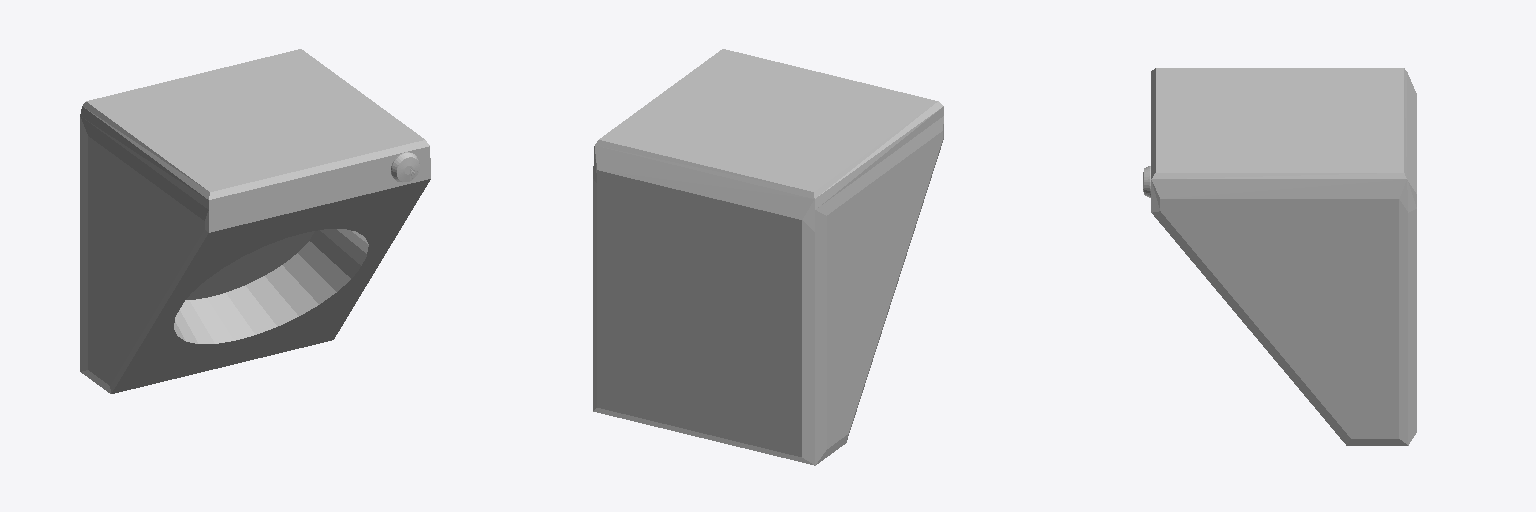
The model's file is Intercom.obj.
3 views of the same model, side by side, from view 1: azimuth 30°, elevation 25°; view 2: azimuth 150°, elevation 25°; view 3: azimuth 270°, elevation 25° (orthographic).
Visible parts, largest first — view 1: Cube, Cylinder; view 2: Cube; view 3: Cube.
Part boxes in pixels (left/top/right/bottom): Cube: left=80, top=49, right=430, bottom=393; Cylinder: left=391, top=152, right=419, bottom=182; Cube: left=593, top=49, right=943, bottom=465; Cube: left=1151, top=68, right=1416, bottom=445.
Bounding box in the file's own units: 2.03 × 2.33 × 2.13.